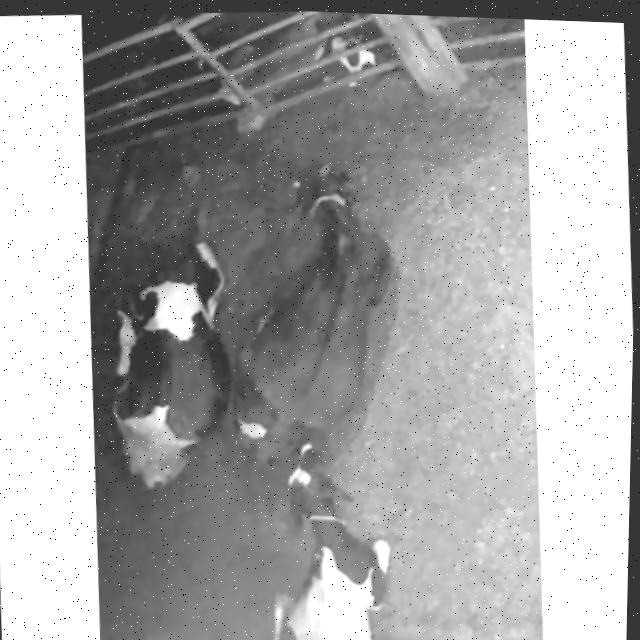lay: (199, 141, 432, 479), (186, 426, 466, 640), (80, 178, 235, 494)
